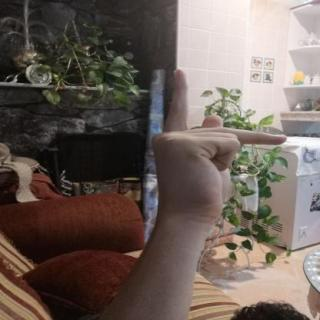DHAA: (138, 61, 300, 243)
